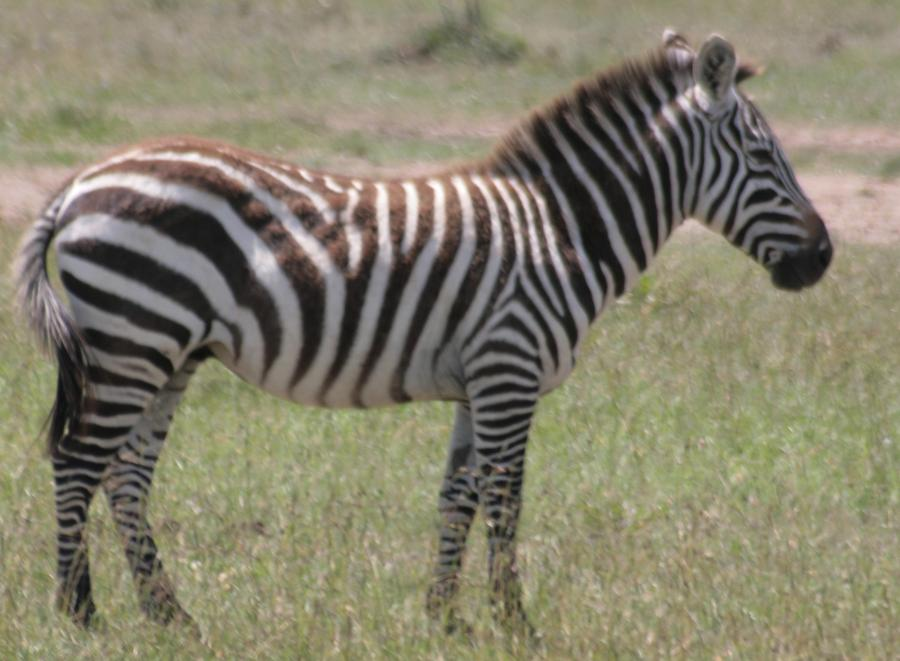zebra_plains: (45, 131, 583, 393)
